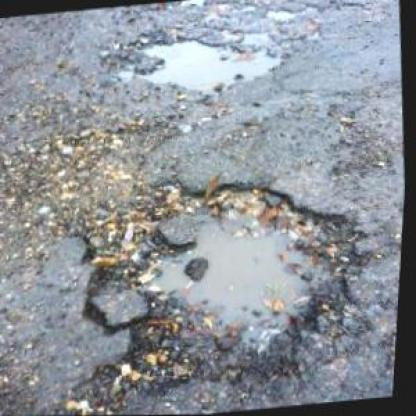pothole: (57, 170, 391, 412), (98, 20, 297, 102)
